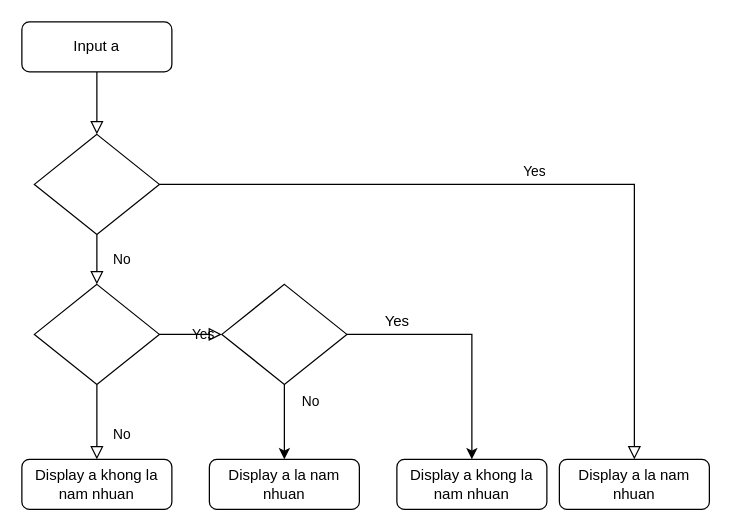
Image size: 731x531. Some labels were removed from this diagram. The shapes that lost their labels are listed below. From the top down, each one's centre as x and y in pixels, then its label:
At (96,183): "a mod 400 = 0".
At (96,333): "a mod 4 = 0".
At (284,333): "a mod 100 = 0".
